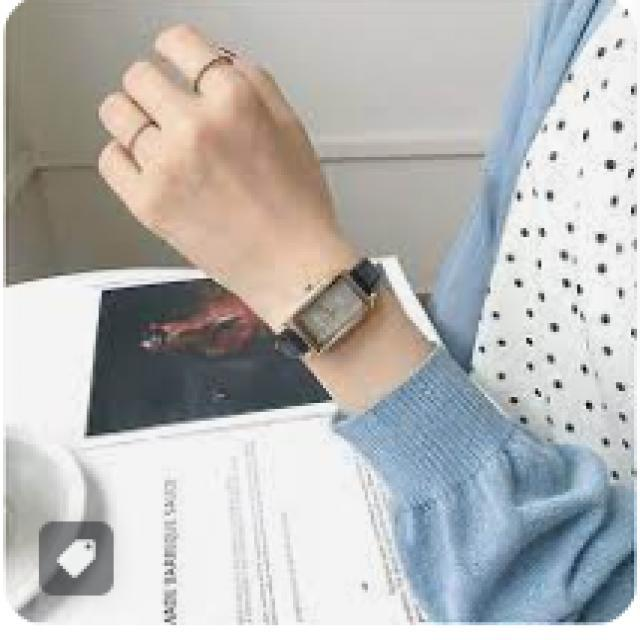Watch: (272, 256, 389, 366)
